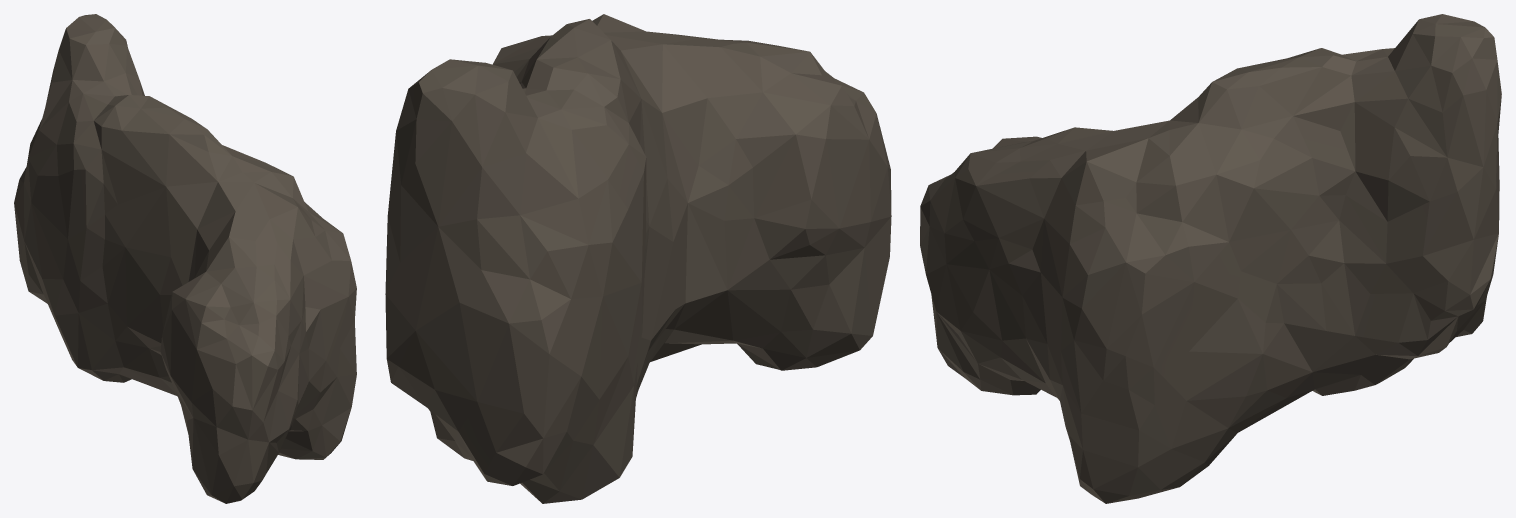
Rendered from bog_cliff_b.gltf.
3 views of the same model, side by side, from view 1: azimuth 30°, elevation 25°; view 2: azimuth 150°, elevation 25°; view 3: azimuth 270°, elevation 25° (orthographic). The views are drawn at different scales.
Parts seen in each view (by area): view 1: bog_cliff_b; view 2: bog_cliff_b; view 3: bog_cliff_b.
Boxes of the visible parts, x1=… form: bog_cliff_b: x1=14, y1=14, x2=356, y2=503; bog_cliff_b: x1=385, y1=14, x2=891, y2=503; bog_cliff_b: x1=920, y1=14, x2=1501, y2=503.
Bounding box in the file's own units: 5.61 × 8.77 × 10.98.
Materials: 1 (1 with a texture image).
